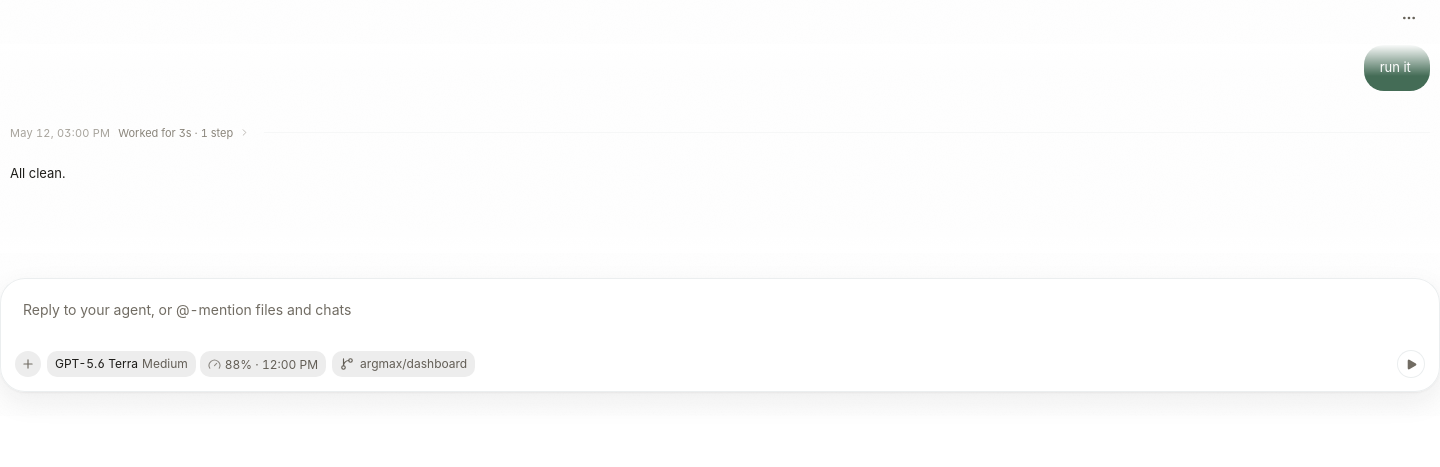
Test: SessionConversation — single-line activity mode › drops a turn's expand choice when the verbosity changes under it
This screenshot has width=1440, height=467.
Step 1. Click the button "Worked for 3s · 1 step" → x=187, y=133, box [118,125,256,141]
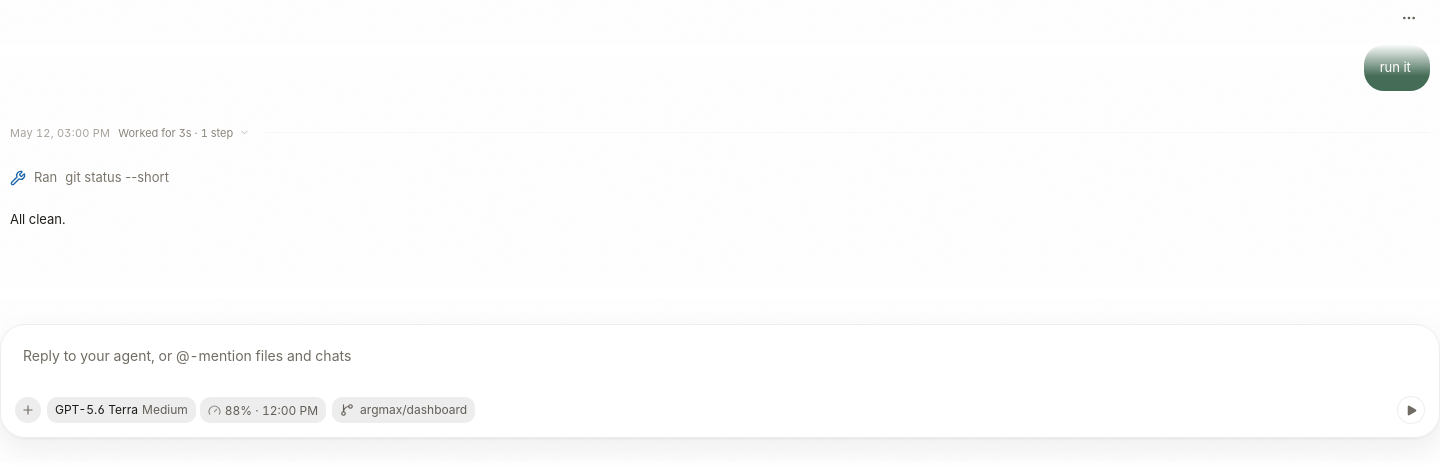
Now the text "git status --short" is shown, box [65,168,169,186]
